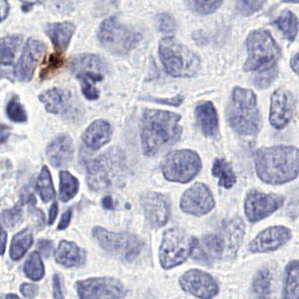Lymphocyte: (39, 49, 67, 80)
